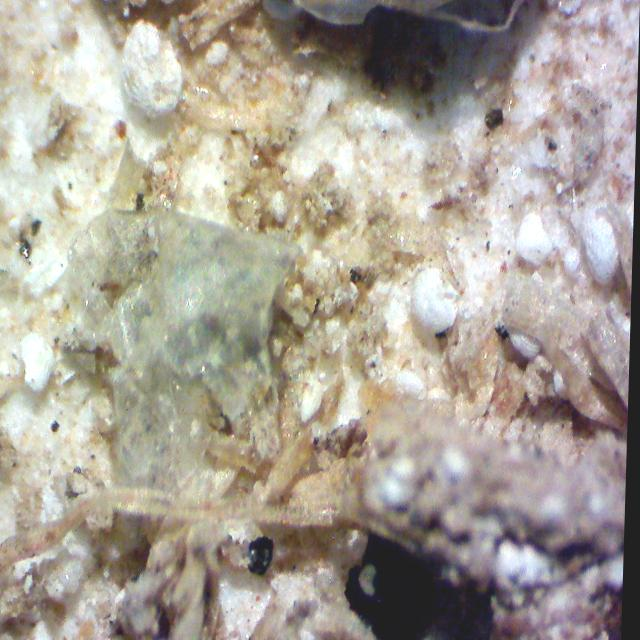microplastic: (59, 205, 302, 486)
